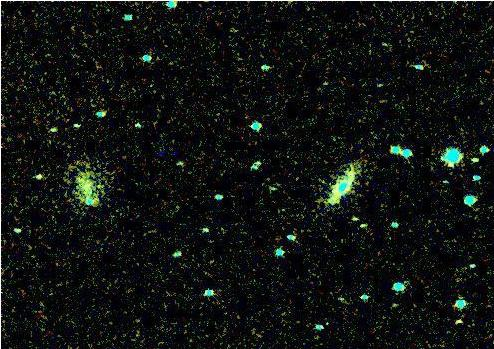star: (315, 186, 345, 216)
